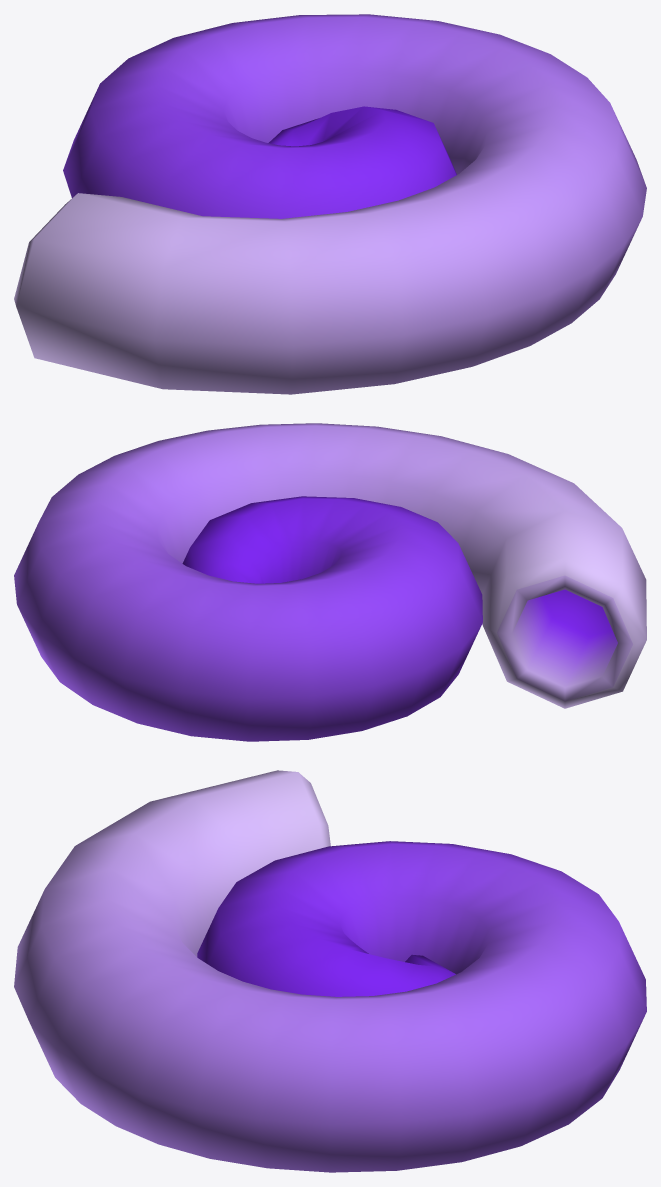
File: Shell_02.fbx
3 renders of one model, top to bottom at view 1: azimuth 30°, elevation 25°; view 2: azimuth 150°, elevation 25°; view 3: azimuth 270°, elevation 25°, orthographic. The views are drawn at different scales.
Visible parts, largest first — view 1: Shell_02; view 2: Shell_02; view 3: Shell_02.
Boxes of the visible parts, x1,y1,x2,y2 form: Shell_02: (14,14,646,394); Shell_02: (14,423,646,741); Shell_02: (14,770,646,1172).
Bounding box in the file's own units: 55.82 × 14.59 × 48.94.
